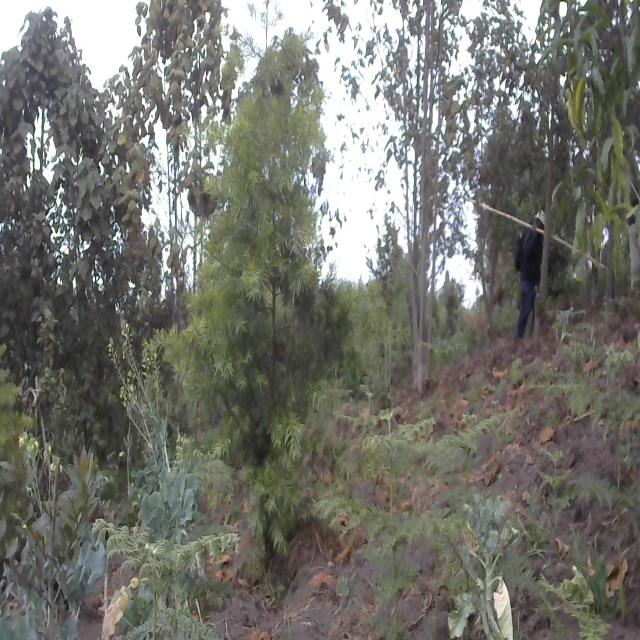Podocarpus falcatus: (200, 80, 348, 492)
other: (333, 0, 510, 367), (0, 13, 138, 444), (127, 4, 231, 296), (0, 428, 108, 618)
